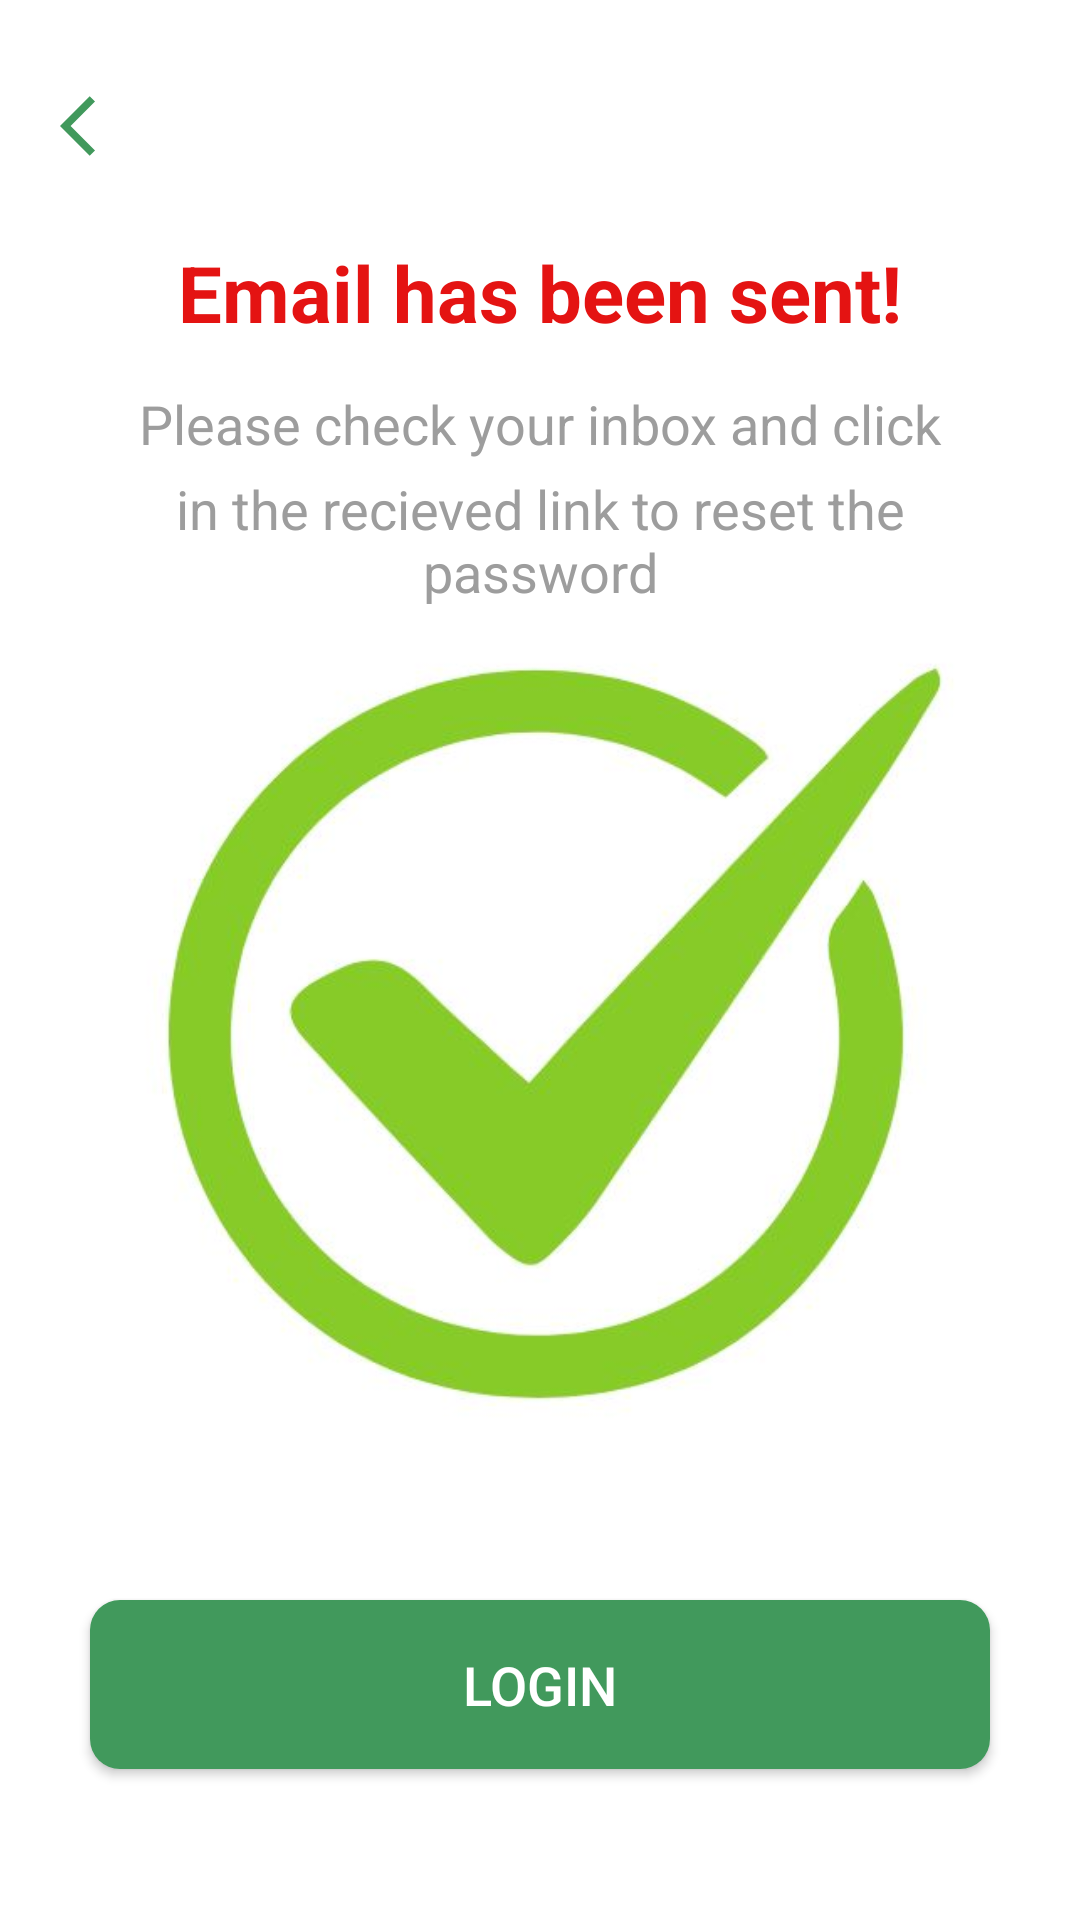

Screen size 1080×1920. Icon name, then its center in pixels as (x,y):
arrow back: (77,126)
